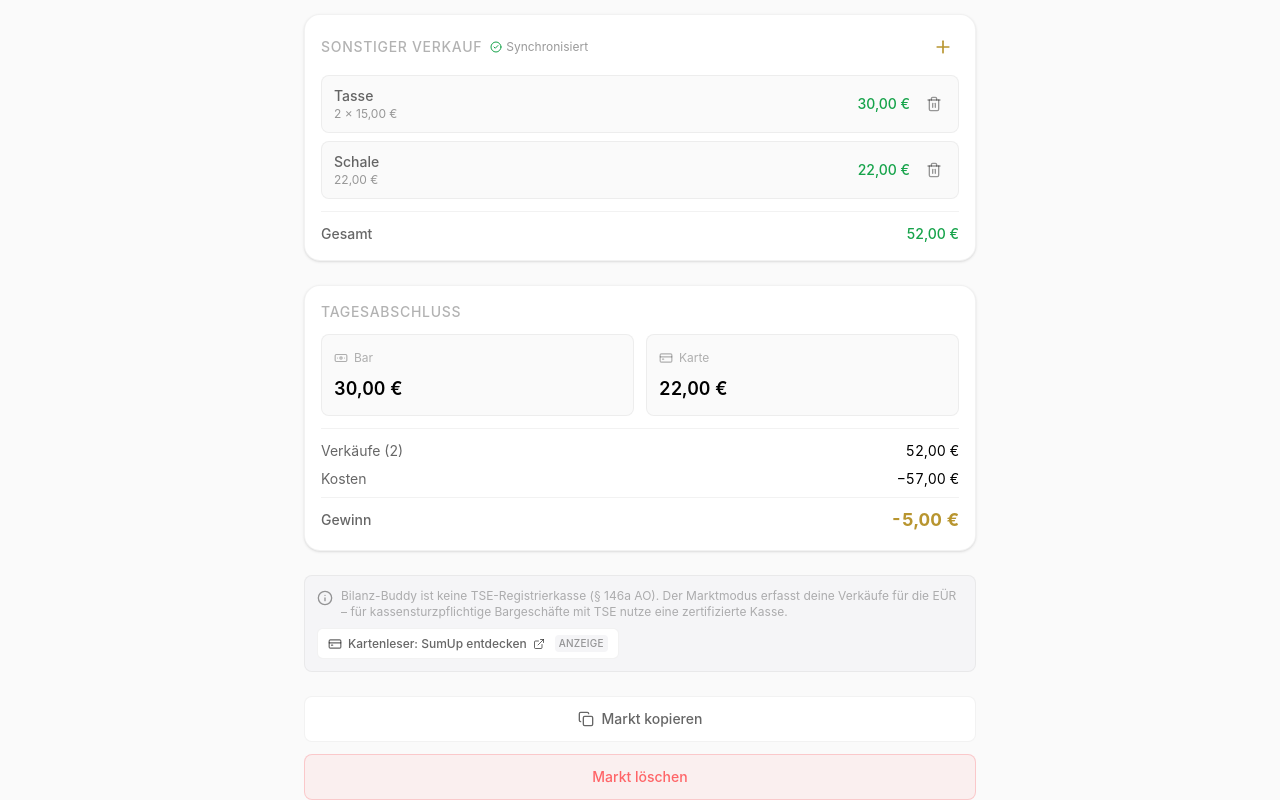
Scenario: Marktdetail — Rückmeldung nach dem Seitenwechsel › meldet keinen Erfolg, wenn das Löschen scheitert
(page scrolled)
Click the button "Markt löschen": [640, 777] box [304,754,976,799]
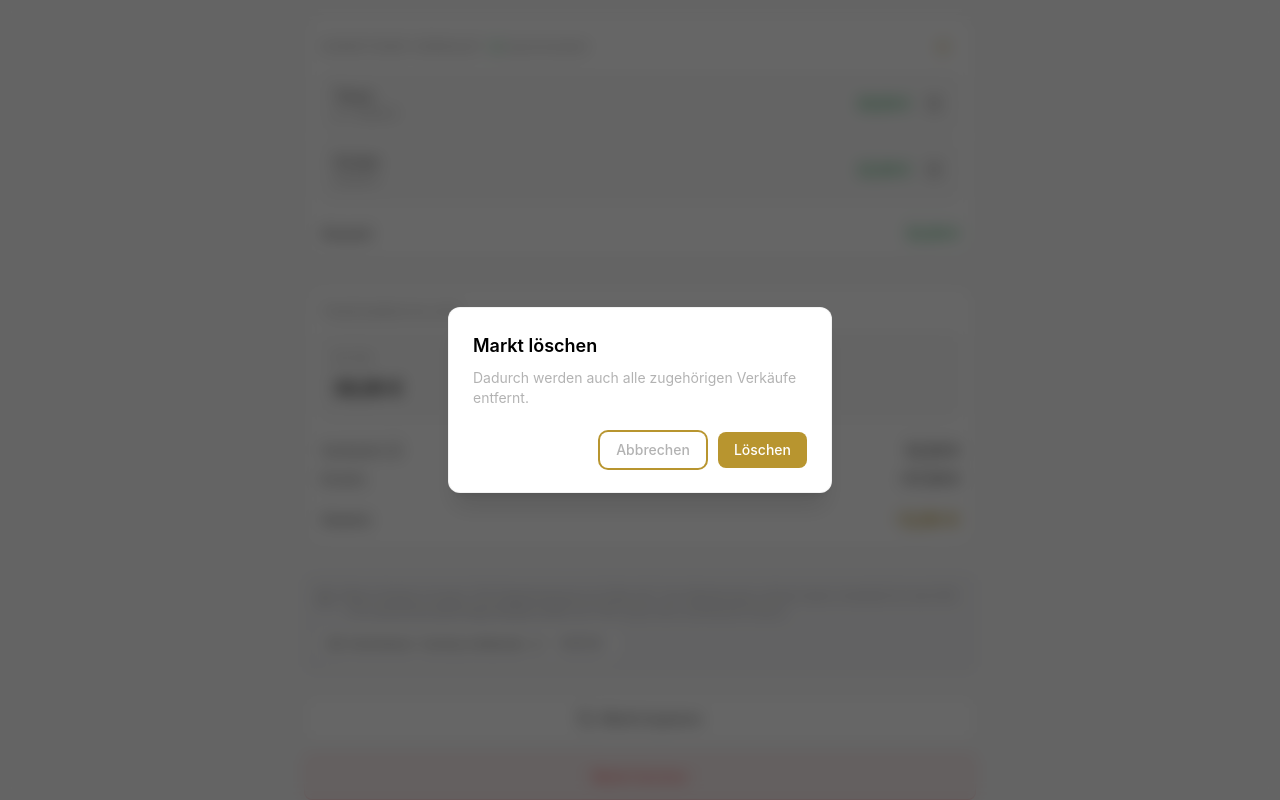
Click the button "Löschen": [762, 450] box [718,432,807,468]
(page scrolled)
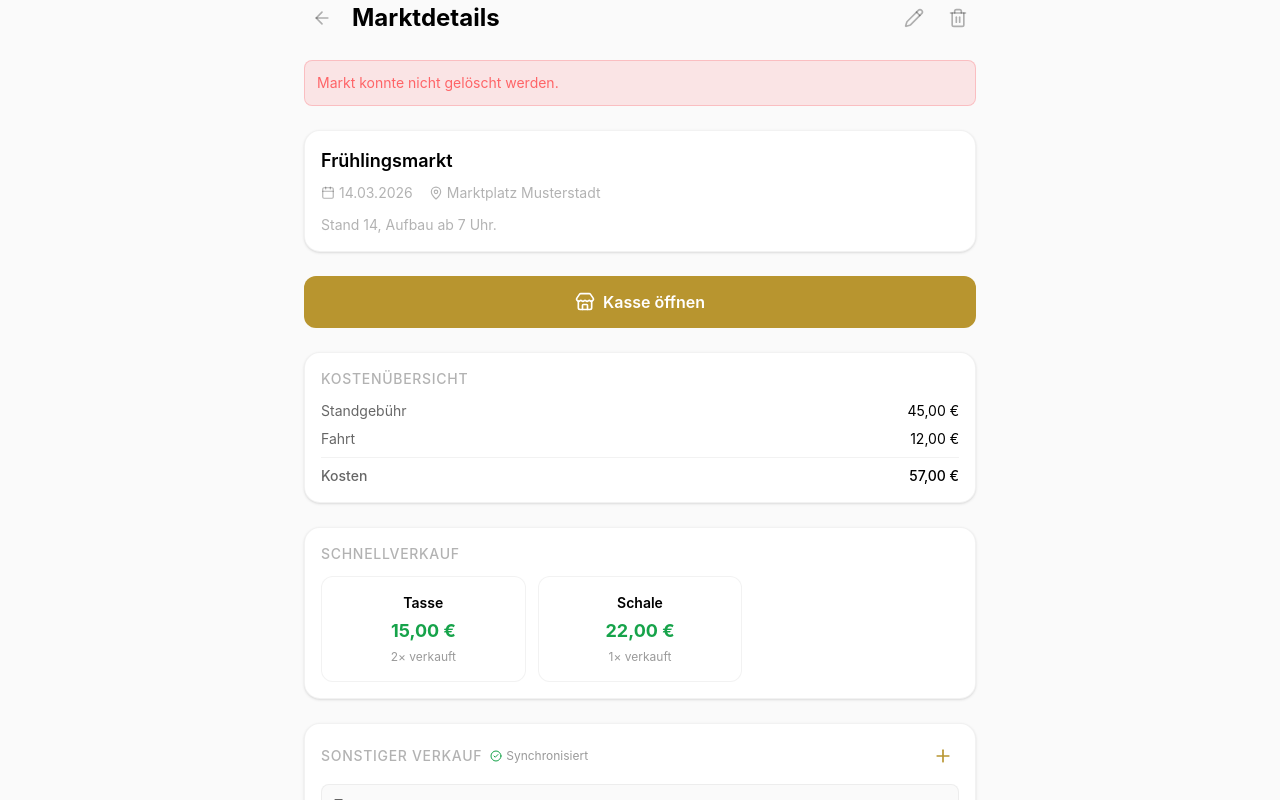
Now the text "Markt konnte nicht gelöscht werden." is shown, box [304,60,976,106]
